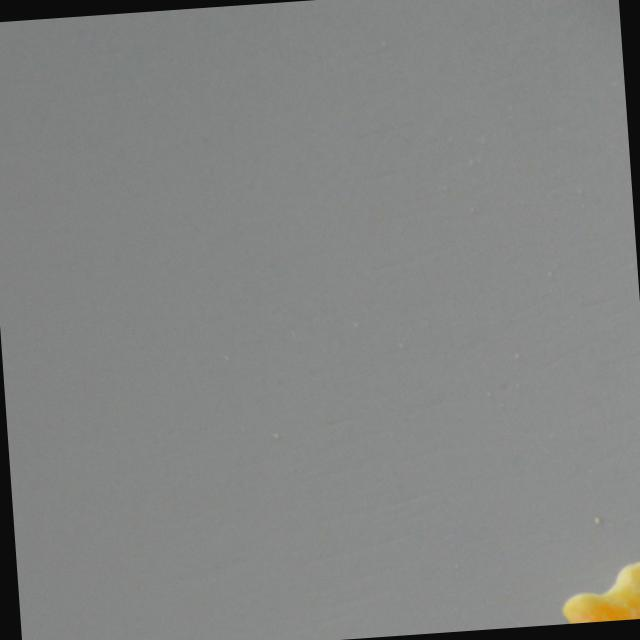pelicula: (558, 560, 640, 624)
